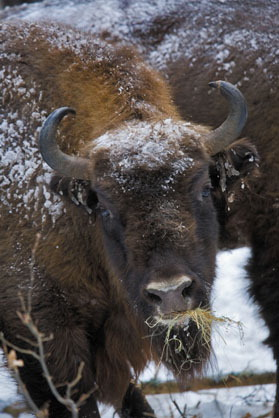zubr: (1, 8, 267, 413)
